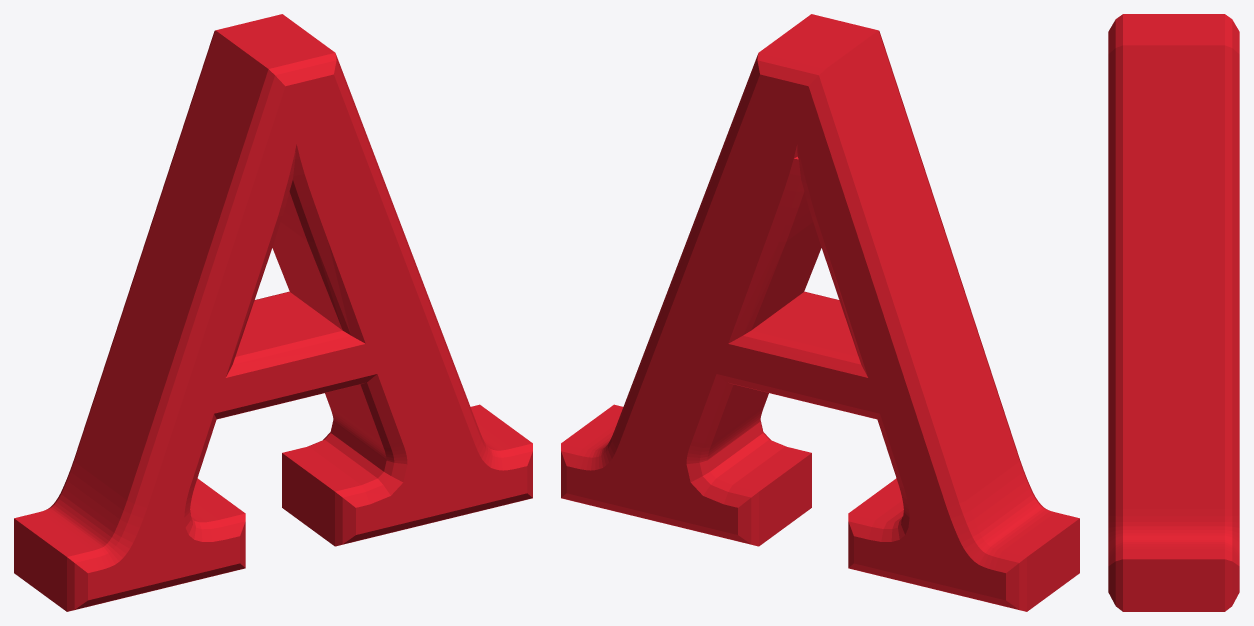
The model's file is tinker.obj.
The picture shows the model from 3 angles, left to right: view 1: azimuth 30°, elevation 25°; view 2: azimuth 150°, elevation 25°; view 3: azimuth 270°, elevation 25°; orthographic projection. The views are drawn at different scales.
Visible parts, largest first — view 1: obj_0; view 2: obj_0; view 3: obj_0.
Boxes of the visible parts, x1=… form: obj_0: x1=14, y1=14, x2=532, y2=611; obj_0: x1=561, y1=14, x2=1079, y2=611; obj_0: x1=1108, y1=14, x2=1239, y2=611.
Size of the model in its own units: 20.76 by 21.02 by 5.27.
